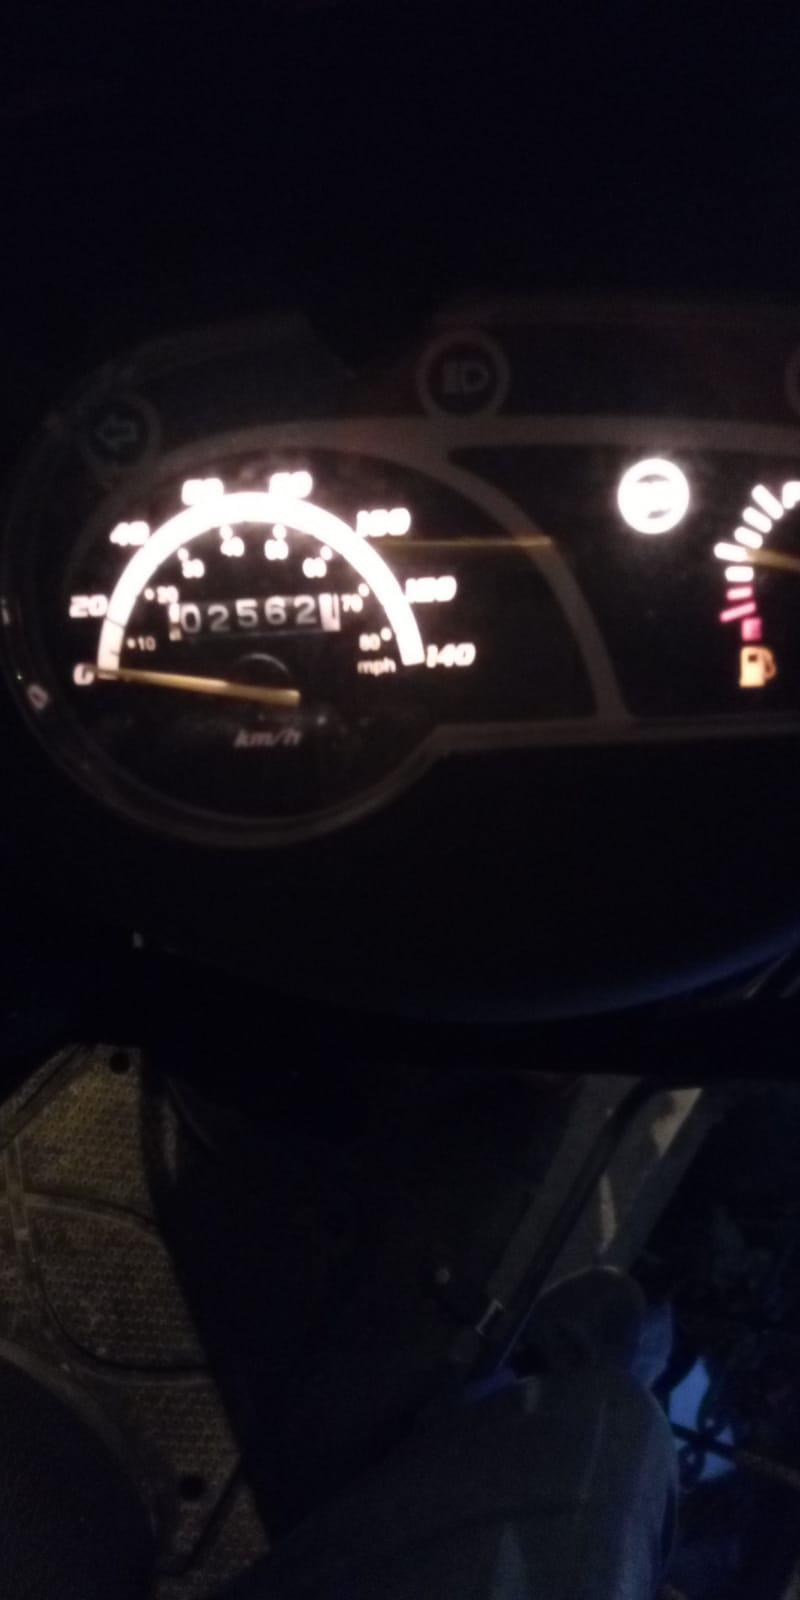0: (178, 602, 202, 634)
1: (324, 591, 339, 621)
2: (291, 593, 318, 624), (205, 603, 232, 633)
5: (234, 597, 260, 628)
6: (262, 594, 288, 624)
odometer: (161, 589, 343, 645)
